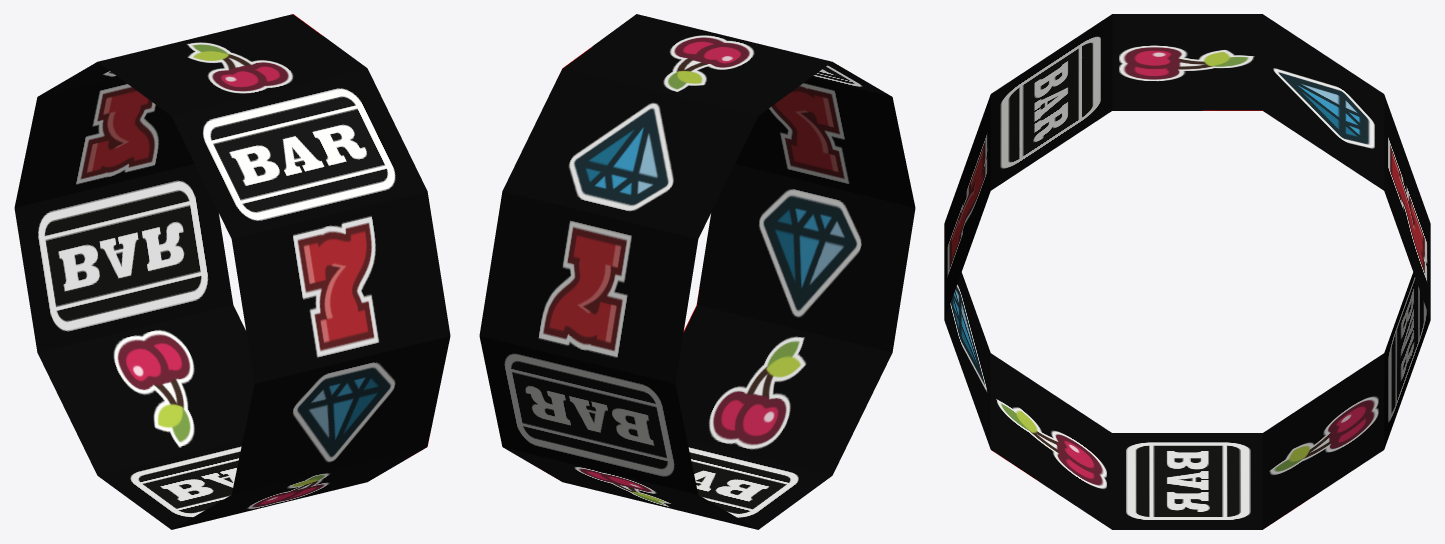
File: slotMachineWheel_3.gltf
3 views of the same model, side by side, from view 1: azimuth 30°, elevation 25°; view 2: azimuth 150°, elevation 25°; view 3: azimuth 270°, elevation 25° (orthographic).
Visible parts, largest first — view 1: NewWheel; view 2: NewWheel; view 3: NewWheel.
Boxes of the visible parts, left/top/right/bottom form: NewWheel: left=14, top=14, right=450, bottom=529; NewWheel: left=479, top=14, right=915, bottom=529; NewWheel: left=944, top=14, right=1430, bottom=529.
Size of the model in its own units: 0.3289 by 0.6638 by 0.698.
1 material, 1 textured.
